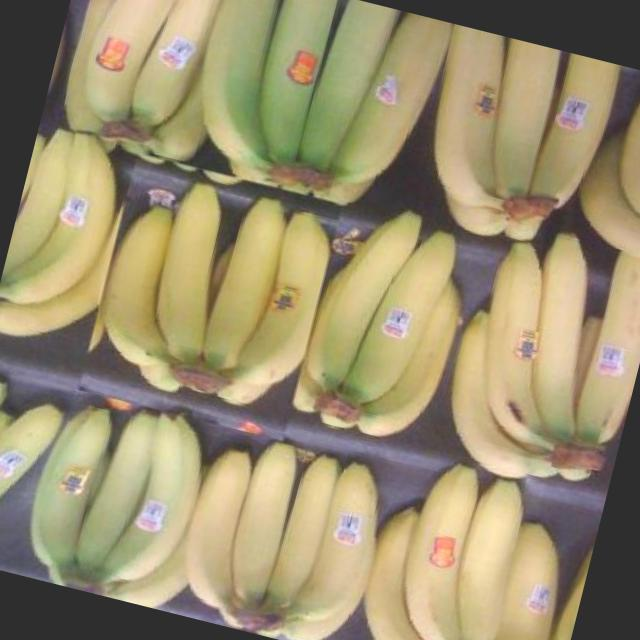Banana: (78, 153, 342, 440), (174, 0, 454, 225), (432, 217, 640, 500), (15, 382, 236, 618), (406, 23, 624, 257), (284, 198, 483, 454), (168, 426, 398, 640), (349, 458, 587, 640), (47, 0, 249, 177), (0, 117, 141, 360), (0, 347, 80, 558), (569, 63, 640, 261)
